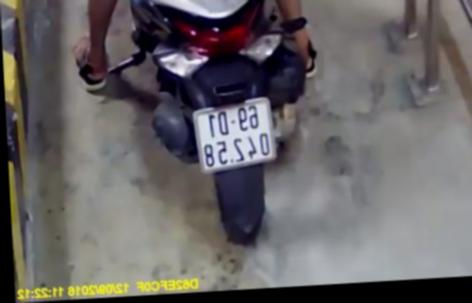License_Plate: (189, 94, 288, 179)
